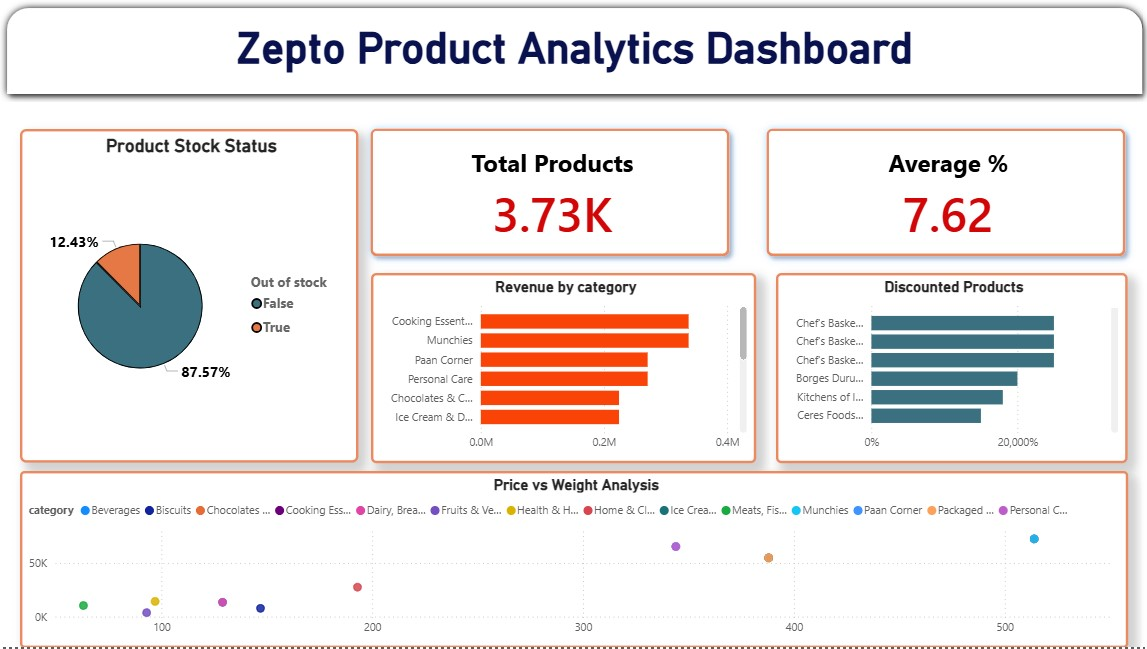

This screenshot's page, from the dashboard's own definition file:
{"tool":"powerbi","page":{"name":"Page 1","canvas":[1280,720],"ordinal":0},"visuals":[{"type":"cardVisual","fields":{"Data":["CountNonNull(zepto_dataset.sku_id)"]},"box":[383.9,113.9,457.1,200.1],"z":0},{"type":"shape","box":[0,0,1279.4,113.4],"z":1},{"type":"textbox","box":[0,20.8,1279.4,79.4],"z":2},{"type":"pieChart","title":"Product Stock Status","fields":{"Category":["zepto_dataset.outofstock"],"Y":["Sum(zepto_dataset.sku_id)"]},"box":[22.8,143.1,375.7,370.9],"z":4},{"type":"cardVisual","fields":{"Data":["Avg(zepto_dataset.discountpercent)"]},"box":[823,113.9,457.1,200.1],"z":5},{"type":"clusteredBarChart","title":"Revenue by category","fields":{"Category":["zepto_dataset.category"],"Y":["Sum(zepto_dataset.EstimatedRevenue)"]},"box":[413.1,302.5,427.8,211.5],"z":6},{"type":"barChart","title":" Discounted Products","fields":{"Y":["Sum(zepto_dataset.discountpercent)"],"Category":["zepto_dataset.name"]},"box":[863.7,302.5,390.4,211.5],"z":7},{"type":"scatterChart","title":"Price vs Weight Analysis","fields":{"X":["CountNonNull(zepto_dataset.weightingms)"],"Y":["Sum(zepto_dataset.discountedsellingprice)"],"Series":["zepto_dataset.category"]},"box":[22.8,523.7,1231.3,196.8],"z":8}]}

Visuals, with their boxes in screenshot pixels (x1, y1, x2, y2), scaled from the page's 1280x720 canvas onto the 1147x649 screenshot:
cardVisual - CountNonNull(zepto_dataset.sku_id): crop(344, 103, 754, 283)
shape: crop(0, 0, 1146, 102)
textbox: crop(0, 19, 1146, 90)
"Product Stock Status" pieChart: crop(20, 129, 357, 463)
cardVisual - Avg(zepto_dataset.discountpercent): crop(737, 103, 1146, 283)
"Revenue by category" clusteredBarChart: crop(370, 273, 754, 463)
" Discounted Products" barChart: crop(774, 273, 1124, 463)
"Price vs Weight Analysis" scatterChart: crop(20, 472, 1124, 648)
